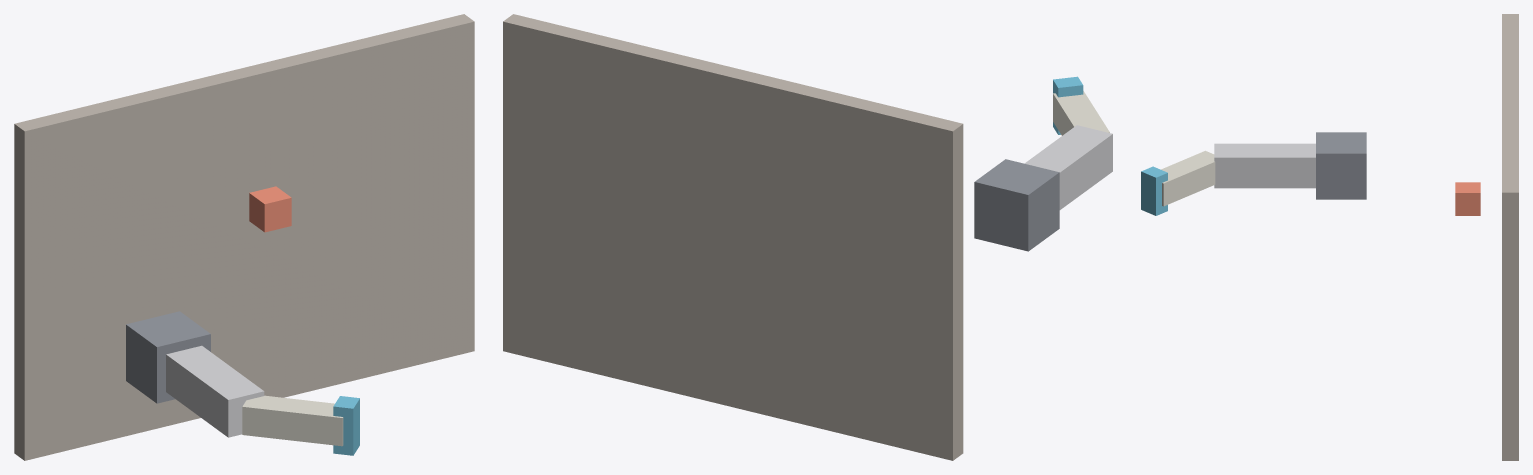
The model's file is arm.glb.
The picture shows the model from 3 angles, left to right: view 1: azimuth 30°, elevation 25°; view 2: azimuth 150°, elevation 25°; view 3: azimuth 270°, elevation 25°; orthographic projection. The views are drawn at different scales.
Visible parts, largest first — view 1: table_top, link1_box, base_box, link2_box, cube_box, wrist_box; view 2: table_top, base_box, link1_box, link2_box; view 3: table_top, link1_box, base_box, link2_box, wrist_box, cube_box.
Part boxes in pixels (x1,y1,x2,y2): table_top: [14, 14, 474, 460]; link1_box: [166, 345, 264, 437]; base_box: [126, 311, 210, 403]; link2_box: [242, 395, 343, 446]; cube_box: [249, 186, 291, 232]; wrist_box: [333, 396, 359, 455]; table_top: [503, 14, 963, 460]; base_box: [974, 159, 1059, 251]; link1_box: [1025, 125, 1112, 209]; link2_box: [1053, 91, 1109, 135]; table_top: [1502, 14, 1518, 460]; link1_box: [1214, 143, 1315, 188]; base_box: [1316, 132, 1366, 199]; link2_box: [1161, 150, 1215, 206]; wrist_box: [1141, 166, 1167, 215]; cube_box: [1455, 182, 1480, 215].
Bounding box in the file's own units: 1 × 0.7 × 0.8932.
